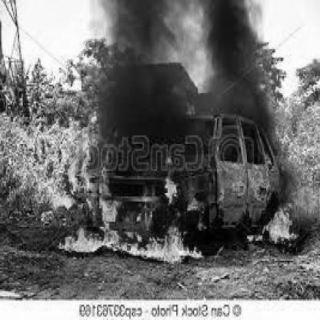Fire: (42, 143, 308, 274)
Smoke: (94, 0, 279, 142)
